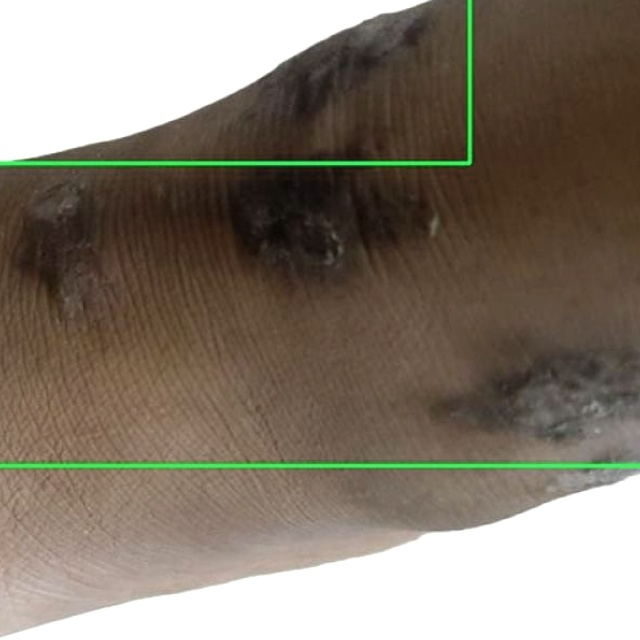Contact Dermatitis: (0, 465, 639, 639), (0, 0, 469, 163)
